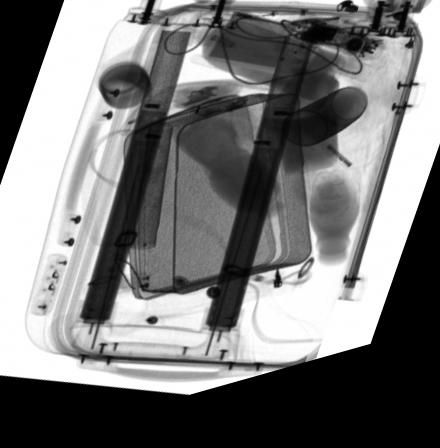Powerbank: (203, 19, 320, 92)
